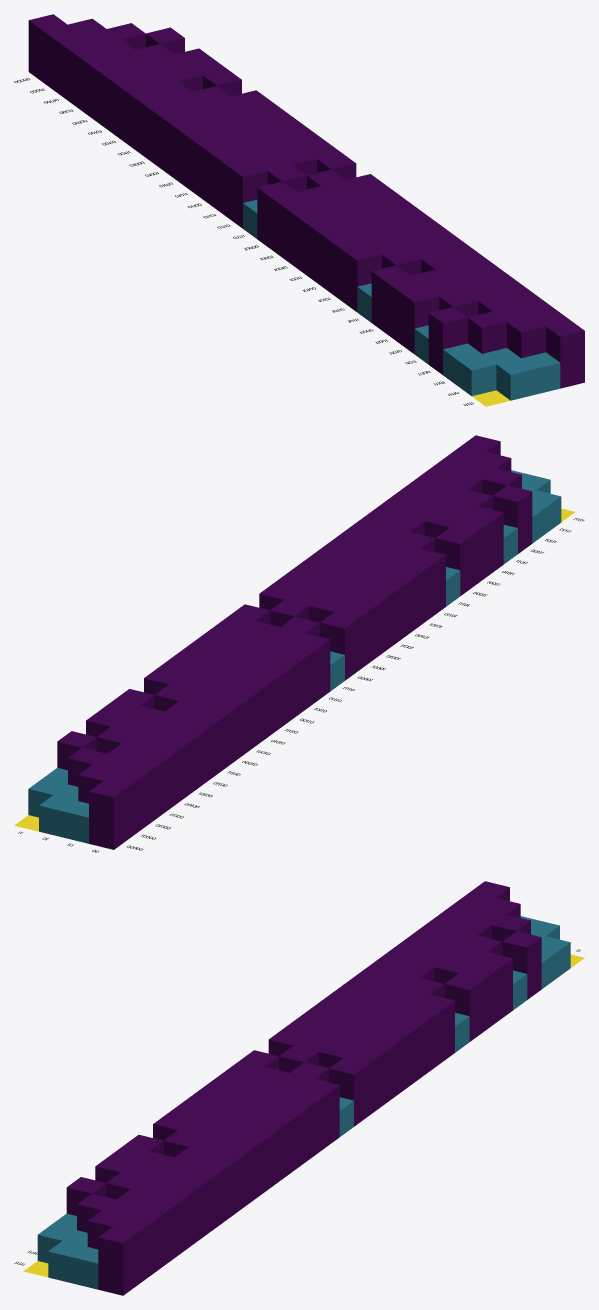
3 views of the same model, one above another, from view 1: azimuth 30°, elevation 25°; view 2: azimuth 150°, elevation 25°; view 3: azimuth 330°, elevation 25° (orthographic).
Parts seen in each view (by area): view 1: Object(4,32)[length_2], Object(1,29)[length_2], Object(1,15)[length_2], Object(1,27)[length_2], Object(1,23)[length_2], Object(1,31)[length_1], Object(2,32)[length_1], Object(2,30)[length_2], Object(3,31)[length_2], Object(1,12)[length_2], Object(1,4)[length_2], Object(1,6)[length_2] (+31 smaller); view 2: Object(1,1)[length_2], Object(1,17)[length_2], Object(1,29)[length_2], Object(1,25)[length_2], Object(1,2)[length_2], Object(1,5)[length_2], Object(1,8)[length_2], Object(1,9)[length_2], Object(1,12)[length_2], Object(1,15)[length_2], Object(1,20)[length_2], Object(1,21)[length_2] (+30 smaller); view 3: Object(4,32)[length_2], Object(4,16)[length_2], Object(4,4)[length_2], Object(4,8)[length_2], Object(4,19)[length_2], Object(4,26)[length_2], Object(4,25)[length_2], Object(4,13)[length_2], Object(4,22)[length_2], Object(4,28)[length_2], Object(4,6)[length_2], Object(4,7)[length_2] (+30 smaller).
Part boxes in pixels (x1,y1,x2,y2): Object(4,32)[length_2]: (546,320,584,388); Object(1,29)[length_2]: (428,307,467,374); Object(1,15)[length_2]: (228,160,267,228); Object(1,27)[length_2]: (400,286,439,354); Object(1,23)[length_2]: (343,244,381,311); Object(1,31)[length_1]: (457,354,496,396); Object(2,32)[length_1]: (496,358,535,400); Object(2,30)[length_2]: (468,311,506,353); Object(3,31)[length_2]: (507,316,545,358); Object(1,12)[length_2]: (186,129,224,197); Object(1,4)[length_2]: (71,45,109,113); Object(1,6)[length_2]: (100,66,138,134); Object(1,1)[length_2]: (89,781,128,849); Object(1,17)[length_2]: (320,612,359,680); Object(1,29)[length_2]: (493,485,532,553); Object(1,25)[length_2]: (435,527,474,595); Object(1,2)[length_2]: (104,770,142,838); Object(1,5)[length_2]: (147,739,185,807); Object(1,8)[length_2]: (190,707,229,775); Object(1,9)[length_2]: (205,696,243,765); Object(1,12)[length_2]: (248,665,286,733); Object(1,15)[length_2]: (291,633,330,701); Object(1,20)[length_2]: (363,580,402,648); Object(1,21)[length_2]: (378,570,416,638); Object(4,32)[length_2]: (98,1227,137,1295); Object(4,16)[length_2]: (329,1058,368,1126); Object(4,4)[length_2]: (502,931,541,999); Object(4,8)[length_2]: (444,973,483,1041); Object(4,19)[length_2]: (286,1089,325,1158); Object(4,26)[length_2]: (185,1163,224,1231); Object(4,25)[length_2]: (199,1153,238,1221); Object(4,13)[length_2]: (372,1026,411,1094); Object(4,22)[length_2]: (243,1121,281,1189); Object(4,28)[length_2]: (156,1184,195,1253); Object(4,6)[length_2]: (474,952,512,1020); Object(4,7)[length_2]: (459,963,498,1031).
Size of the model in its own units: 4.85 by 2 by 32.5.
